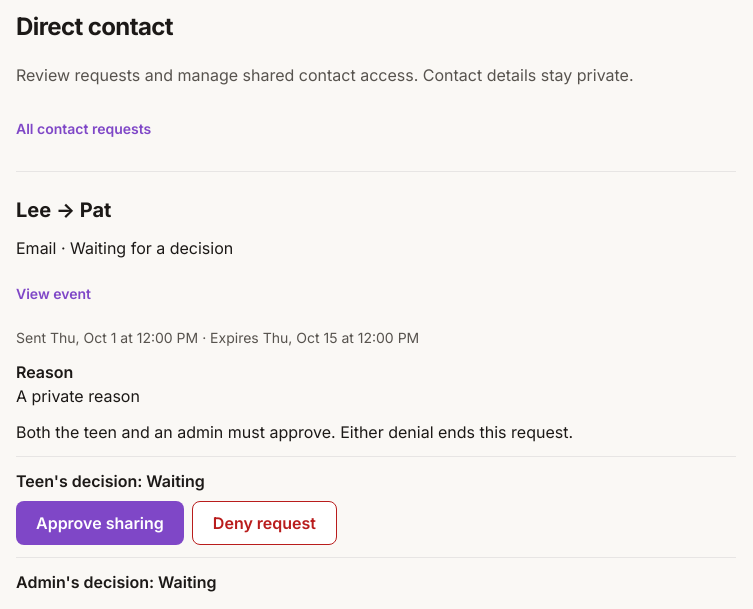
Test case: a denial is terminal even if a stale response claims a decision capability
What coordinates should you click on to do the following:
click the button "Deny request"
I would click on:
 (264, 523)
Its box is top-left (192, 501), bottom-right (337, 545).
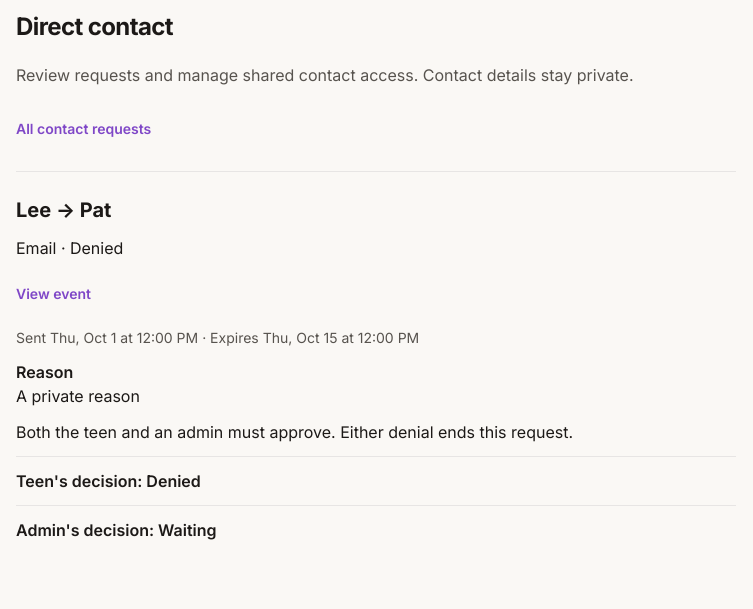
Expected: the heading "Teen's decision: Denied" is shown, top-left (16, 471), bottom-right (201, 491)
Expected: the button "Approve sharing" is gone
